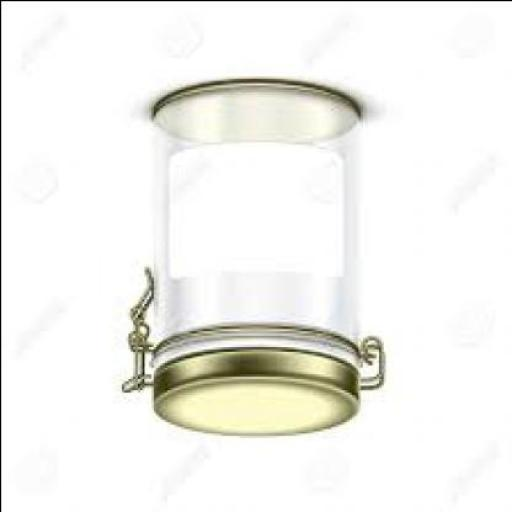glass: (152, 82, 362, 368)
metal: (157, 351, 362, 437)
